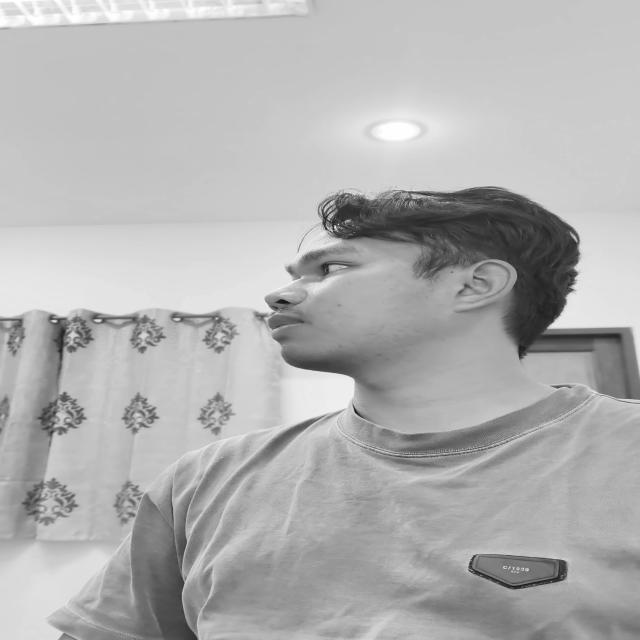ear: (453, 259, 517, 312)
